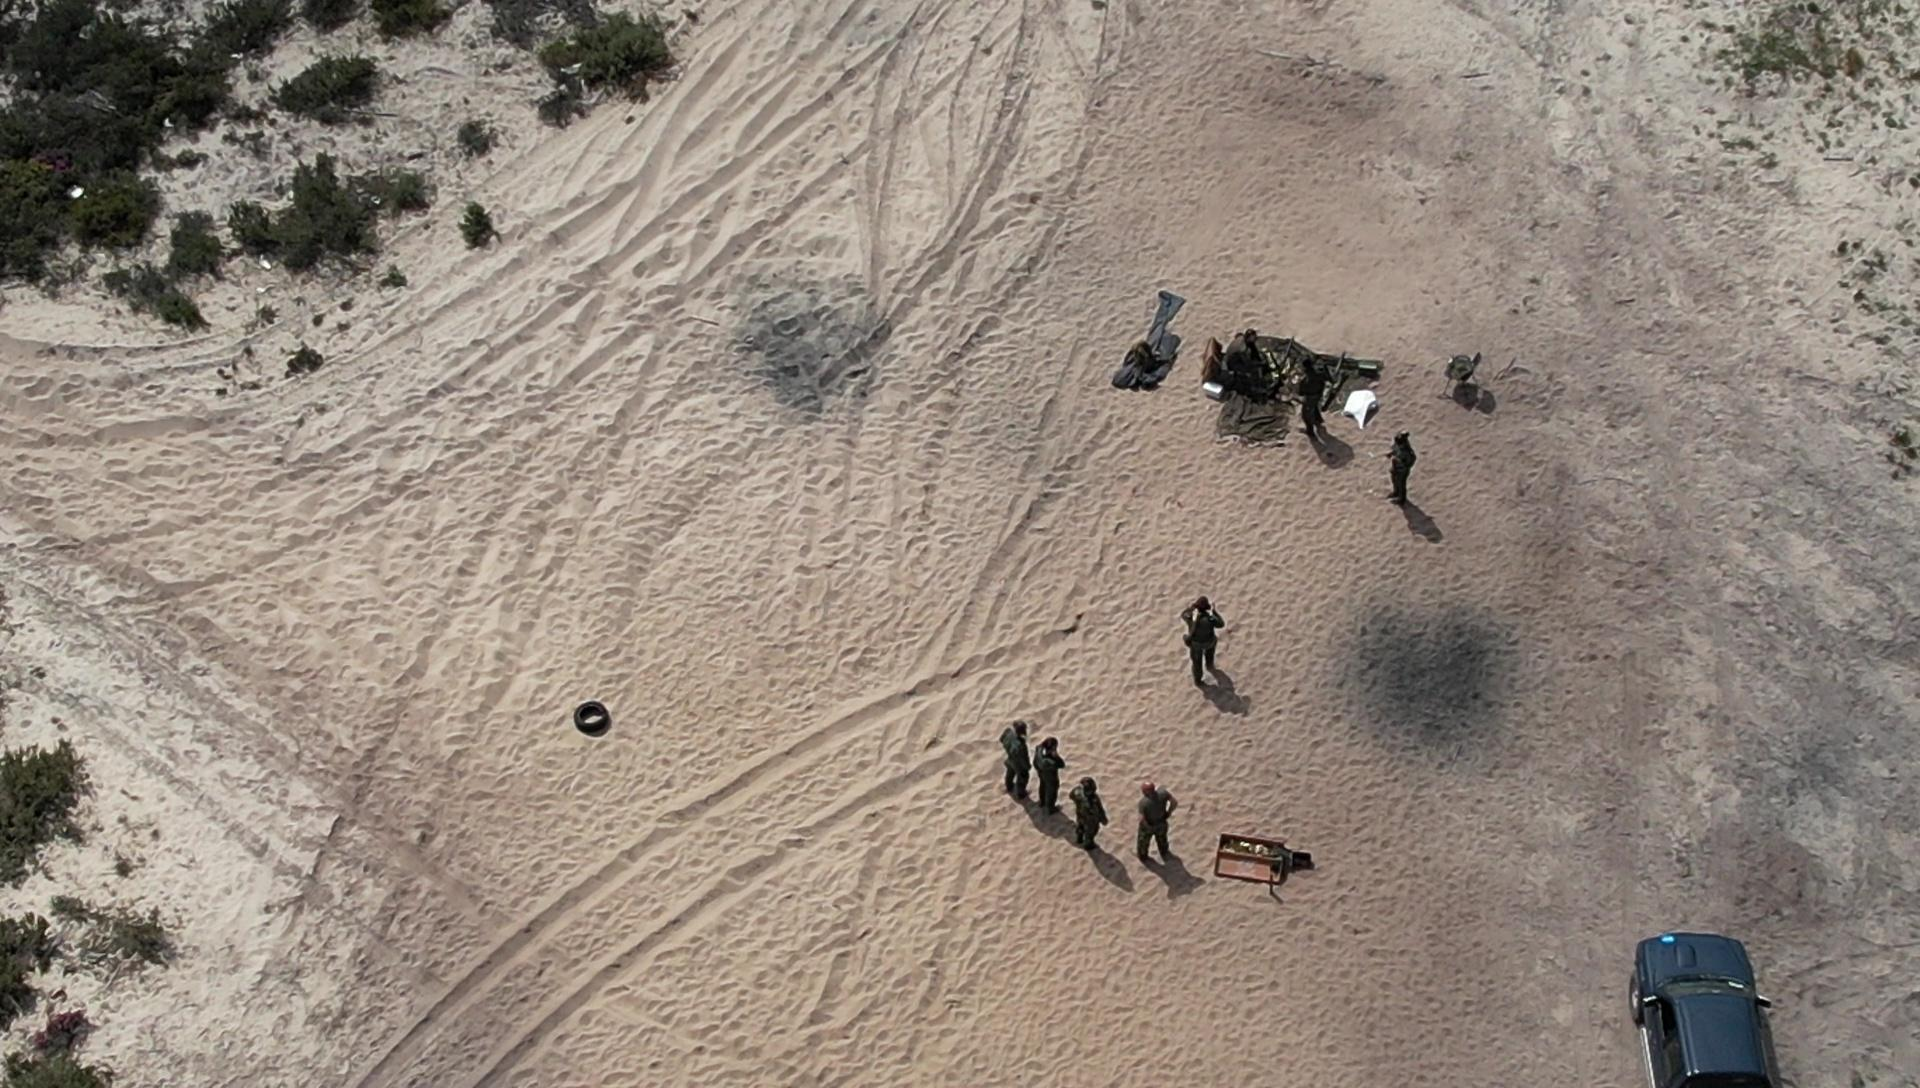Soldier: (1175, 592, 1241, 723), (1131, 769, 1183, 889), (1002, 713, 1058, 823), (1222, 322, 1276, 419), (1290, 344, 1337, 450), (1026, 729, 1073, 824), (1381, 421, 1427, 514), (1065, 771, 1112, 862)
